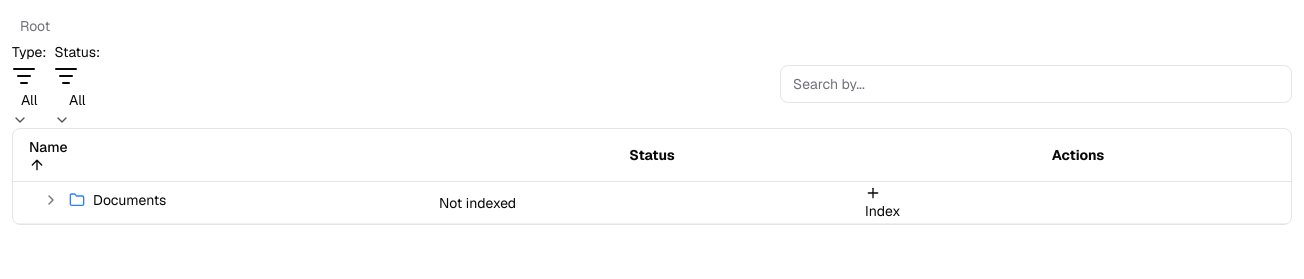
it: FilePickerGoogleDriveContainer › Folder / children › should expand a folder, see the skeleton, then the content, collapse it, and when expanding again see the content directly without skeleton because it is cached
Check: the text "Documents" is shown, box x1=93 y1=190 x2=166 y2=210
Click the button with aria-label "Documents, folder, collapsed" at {"x": 104, "y": 200}, box x1=41 y1=190 x2=166 y2=210
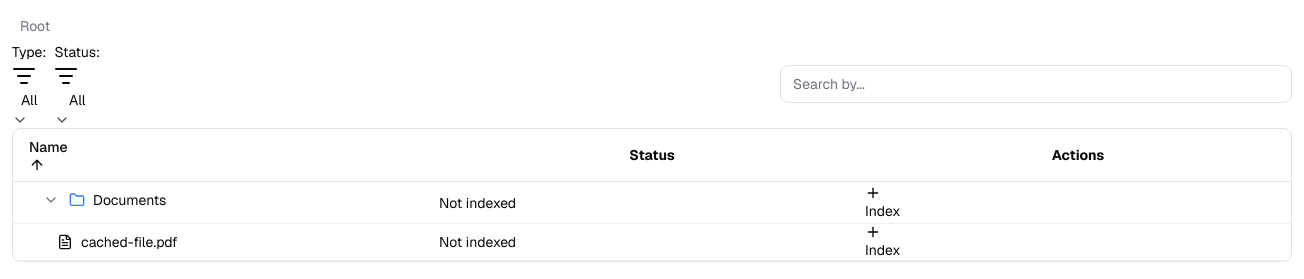
Check: the text "cached-file.pdf" is shown, box x1=81 y1=232 x2=178 y2=252
Click the button with aria-label "Documents, folder, expanded" at {"x": 104, "y": 200}, box x1=41 y1=190 x2=166 y2=210
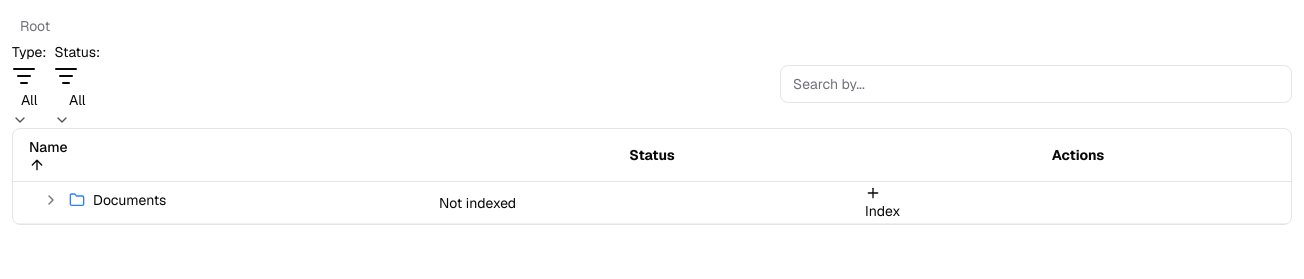
Check: the text "cached-file.pdf" is gone
Click the button with aria-label "Documents, folder, collapsed" at {"x": 104, "y": 200}, box x1=41 y1=190 x2=166 y2=210
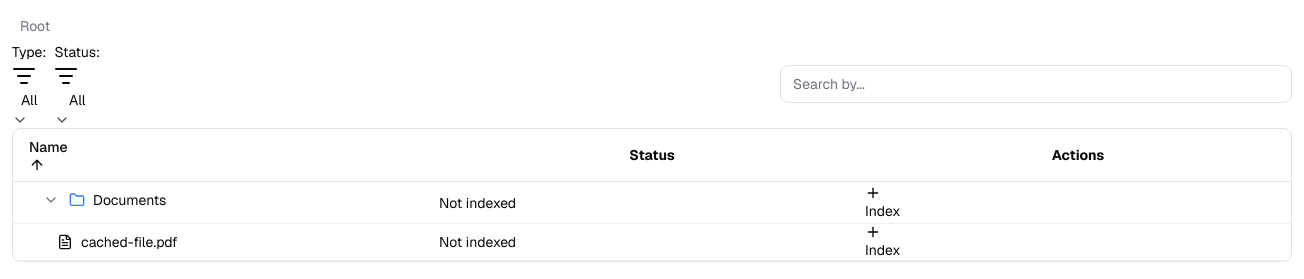
Check: the text "cached-file.pdf" is shown, box x1=81 y1=232 x2=178 y2=252
